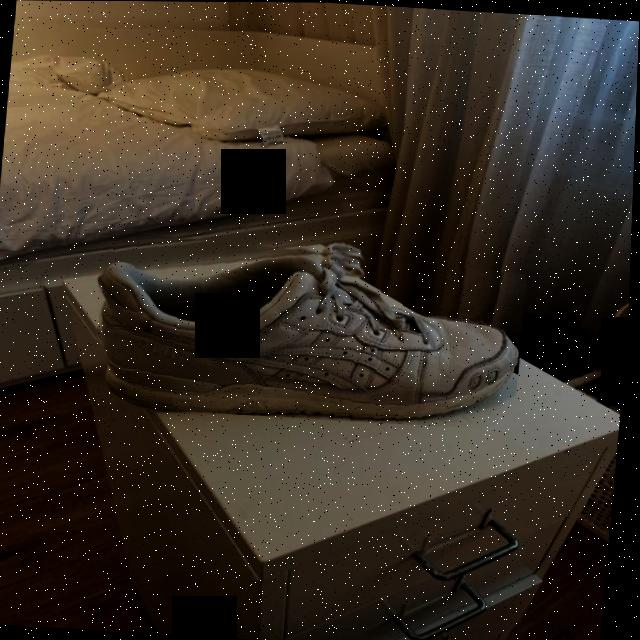shoe: (90, 230, 531, 431)
